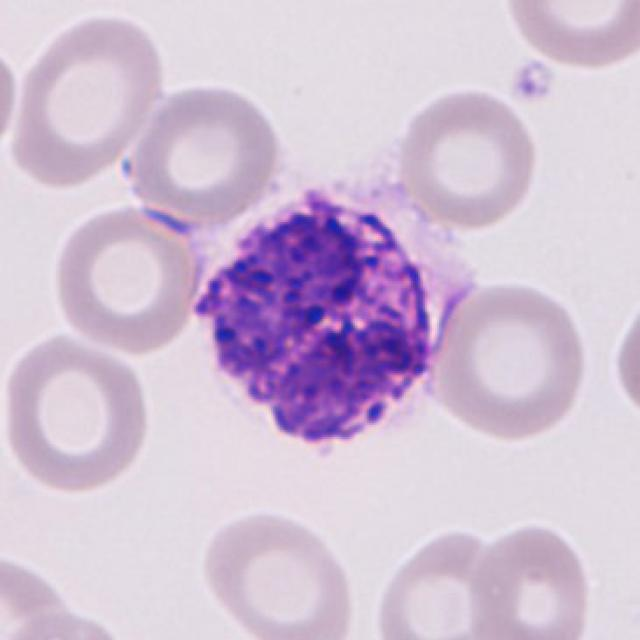Basophil: (182, 163, 477, 475)
Platelets: (507, 56, 560, 108)
RBC: (5, 5, 170, 191), (420, 276, 594, 444), (0, 328, 156, 498), (47, 200, 210, 358), (119, 78, 288, 226), (390, 82, 544, 234), (194, 503, 362, 640), (369, 524, 518, 640), (461, 518, 598, 640), (498, 0, 638, 73), (0, 546, 84, 636), (2, 607, 145, 640), (608, 290, 640, 432), (3, 0, 168, 19), (0, 36, 23, 158)
